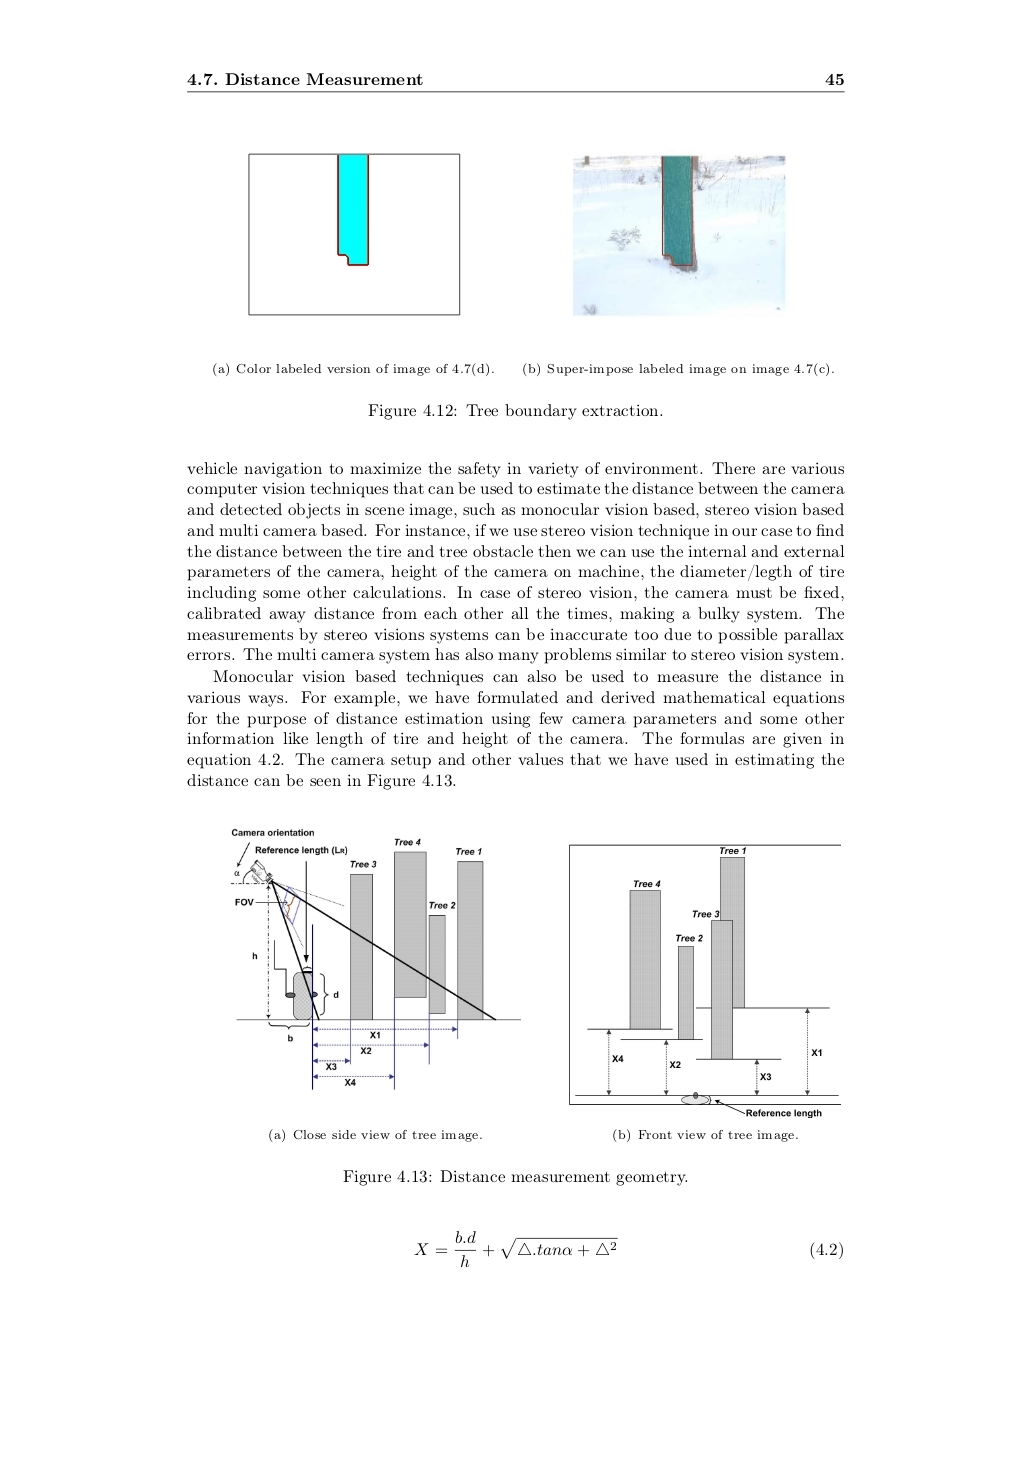figure: (230, 827, 520, 1090), (569, 842, 840, 1118), (248, 153, 460, 315), (574, 155, 786, 315)
formula: (414, 1230, 842, 1268)
